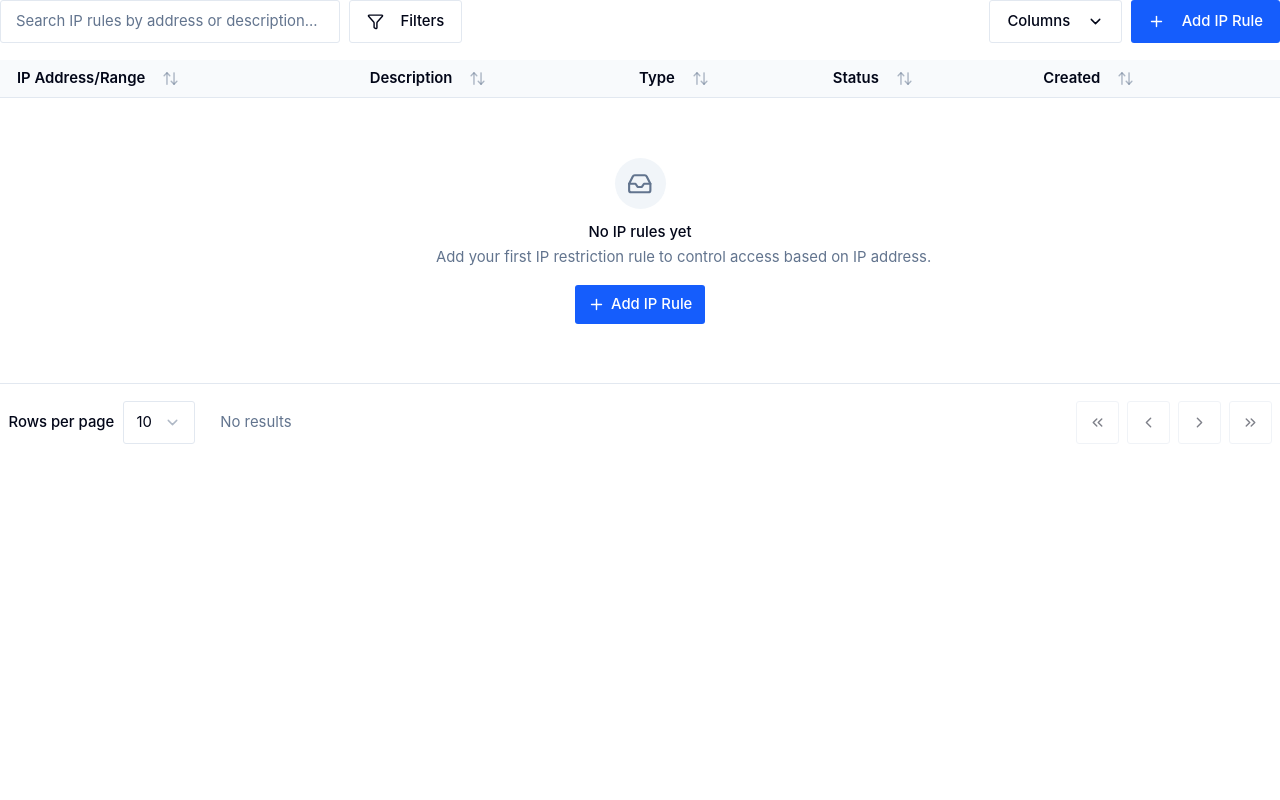
it: IpRestrictionListing › clicking Add IP Rule opens the dialog
This screenshot has width=1280, height=800.
Click the 1st button "Add IP Rule" at (1205, 21), box [1131,0,1279,42]
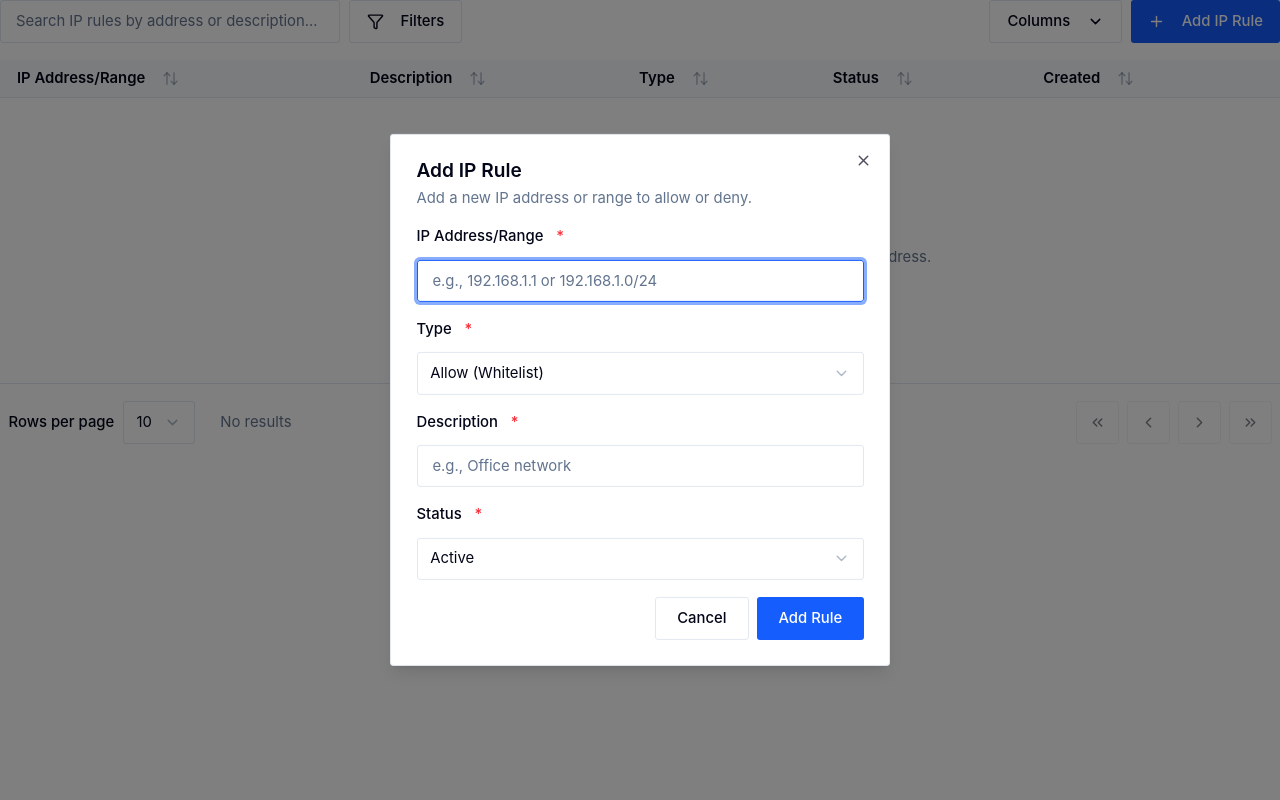
Result: the dialog is shown at [390,134,890,666]
